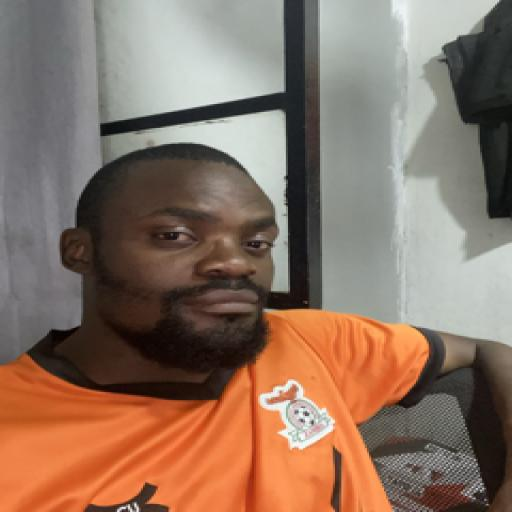JEANLUC: (70, 140, 286, 374)
